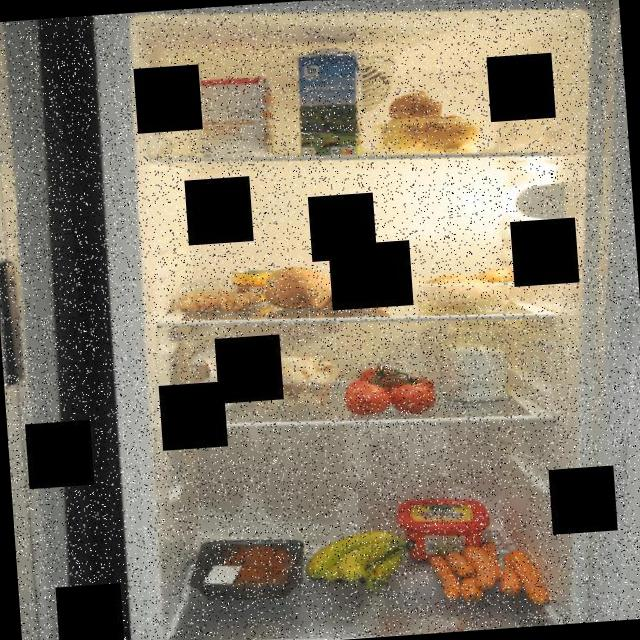Carne vacuno: (183, 532, 308, 607)
Cebolla: (366, 82, 492, 162)
Champiñones: (251, 344, 339, 408)
Gambas/Langostinos: (172, 284, 255, 320)
Leche: (288, 41, 369, 163)
Mantequilla: (391, 490, 496, 568)
Patata: (408, 258, 524, 318)
Plátano: (296, 520, 424, 598)
Tomate: (338, 356, 446, 422)
Zanahoria: (424, 534, 556, 616)
